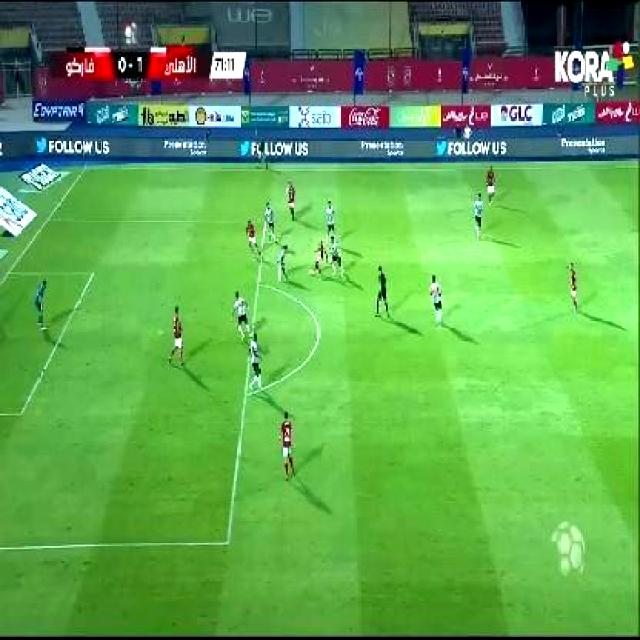bigarea_bottom_inner: (217, 526, 234, 557)
bigarea_top_outter: (44, 212, 54, 223)
bottom_arc_area_intersection: (242, 386, 252, 400)
corner: (78, 164, 94, 176)
smallarea_bottom_inner: (12, 400, 26, 423)
smallarea_top_inner: (88, 265, 97, 280)
smallarea_top_outter: (1, 263, 12, 279)
top_arc_area_intersection: (255, 274, 263, 288)
